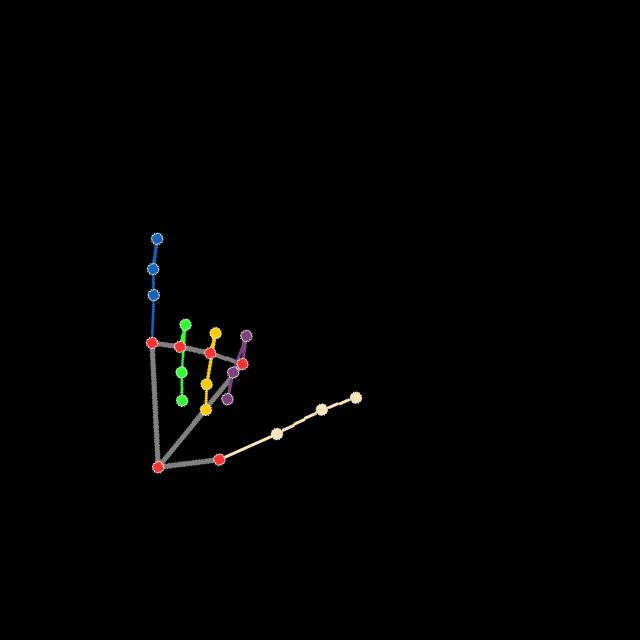skr: (140, 230, 365, 474)
